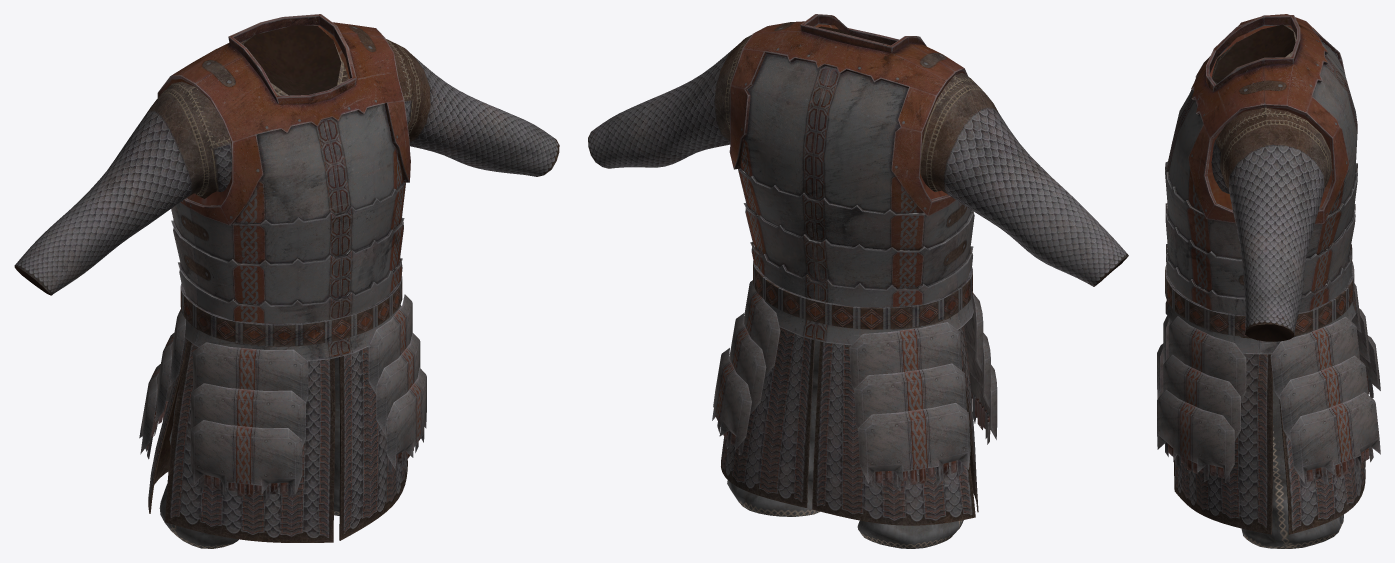
Rendered from sk_dwarf_iron_chest_elite_c.fbx.
3 renders of one model, left to right at view 1: azimuth 30°, elevation 25°; view 2: azimuth 150°, elevation 25°; view 3: azimuth 270°, elevation 25°, orthographic. The views are drawn at different scales.
Parts seen in each view (by area): view 1: sk_dwarf_iron_chest_elite_c.0, sk_dwarf_iron_chest_elite_c.2, sk_dwarf_iron_chest_elite_c.1; view 2: sk_dwarf_iron_chest_elite_c.0, sk_dwarf_iron_chest_elite_c.2, sk_dwarf_iron_chest_elite_c.1; view 3: sk_dwarf_iron_chest_elite_c.0, sk_dwarf_iron_chest_elite_c.2, sk_dwarf_iron_chest_elite_c.1.
Part boxes in pixels (bbox=[...]): sk_dwarf_iron_chest_elite_c.0: bbox=[139, 14, 426, 548]; sk_dwarf_iron_chest_elite_c.2: bbox=[14, 25, 559, 542]; sk_dwarf_iron_chest_elite_c.1: bbox=[180, 275, 402, 346]; sk_dwarf_iron_chest_elite_c.0: bbox=[712, 14, 997, 548]; sk_dwarf_iron_chest_elite_c.2: bbox=[588, 26, 1128, 525]; sk_dwarf_iron_chest_elite_c.1: bbox=[753, 261, 972, 329]; sk_dwarf_iron_chest_elite_c.0: bbox=[1157, 14, 1380, 548]; sk_dwarf_iron_chest_elite_c.2: bbox=[1173, 24, 1365, 534]; sk_dwarf_iron_chest_elite_c.1: bbox=[1165, 261, 1354, 336].
Size of the model in its own units: 1.17 by 0.4408 by 1.03.
